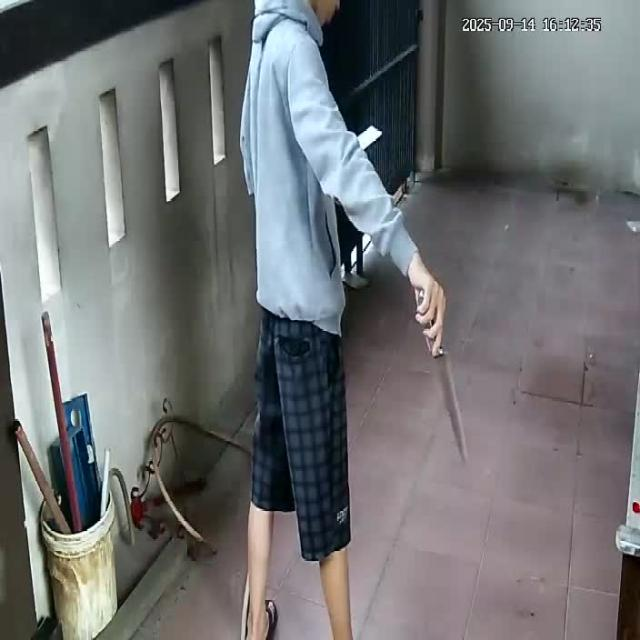senjata_tajam: (432, 350, 468, 464)
